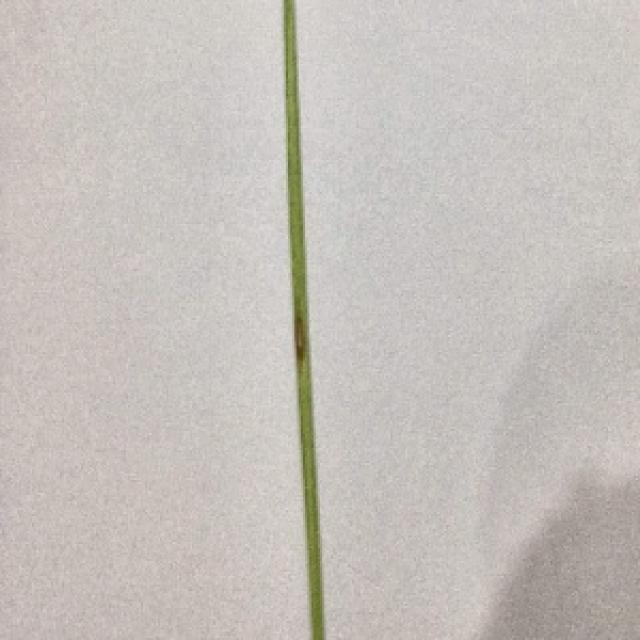Leaf_Blast: (286, 137, 313, 384)
